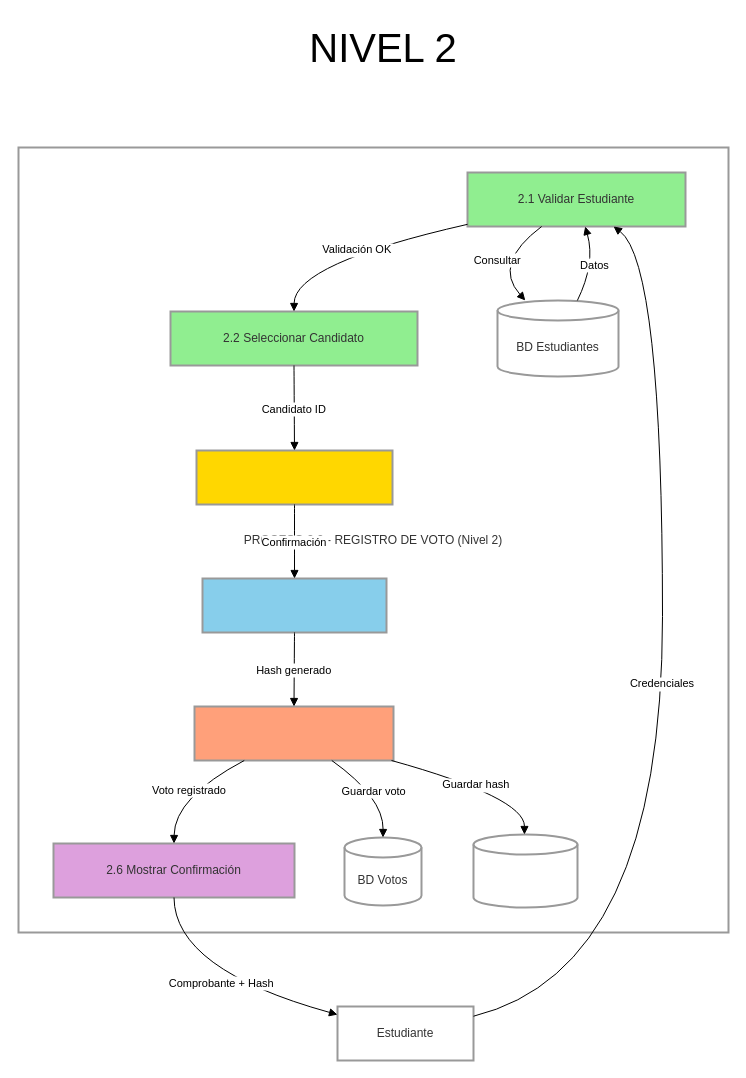
Image size: 746x1078. Some labels were removed from this diagram. Each missing label, with the box of its shape:
2.3 Confirmar Voto: (195, 449, 393, 505)
2.4 Generar Hash: (201, 577, 387, 633)
2.5 Almacenar Voto: (193, 705, 394, 761)
BD Auditoría: (472, 833, 578, 908)
